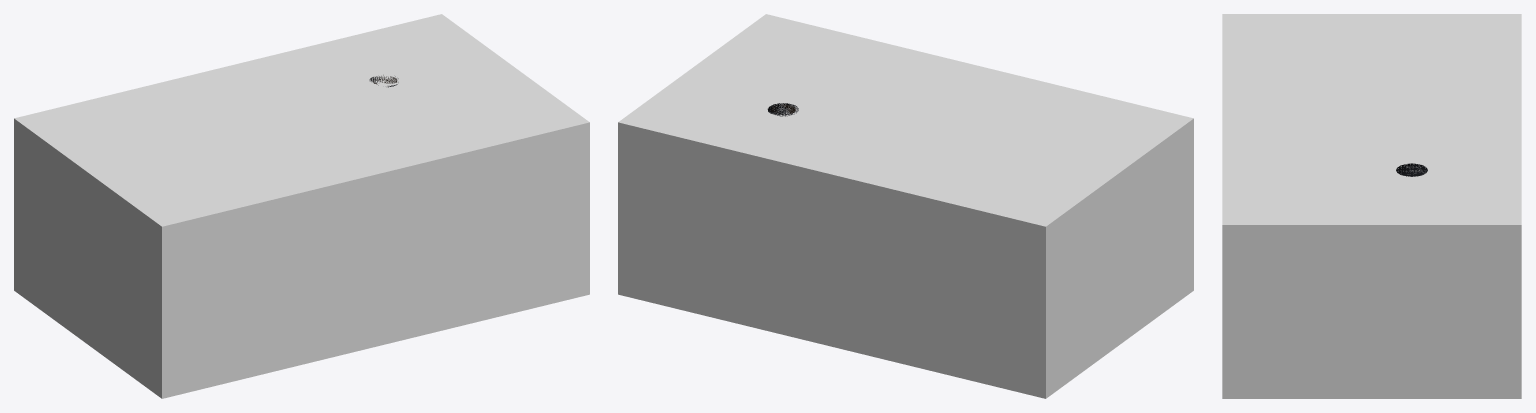
Rendered from Furn_CoffeeTable.001.gltf.
3 views of the same model, side by side, from view 1: azimuth 30°, elevation 25°; view 2: azimuth 150°, elevation 25°; view 3: azimuth 270°, elevation 25° (orthographic).
Visible parts, largest first — view 1: Furn_CoffeeTable.001_COL; view 2: Furn_CoffeeTable.001_COL; view 3: Furn_CoffeeTable.001_COL, Furn_CoffeeTable.001.
Part boxes in pixels (bbox=[...]): Furn_CoffeeTable.001_COL: bbox=[14, 14, 589, 398]; Furn_CoffeeTable.001_COL: bbox=[618, 14, 1193, 398]; Furn_CoffeeTable.001_COL: bbox=[1222, 14, 1521, 398]; Furn_CoffeeTable.001: bbox=[1396, 163, 1427, 176].
Size of the model in its own units: 1.25 by 0.522 by 0.748.
Materials: 6 (2 with a texture image).
